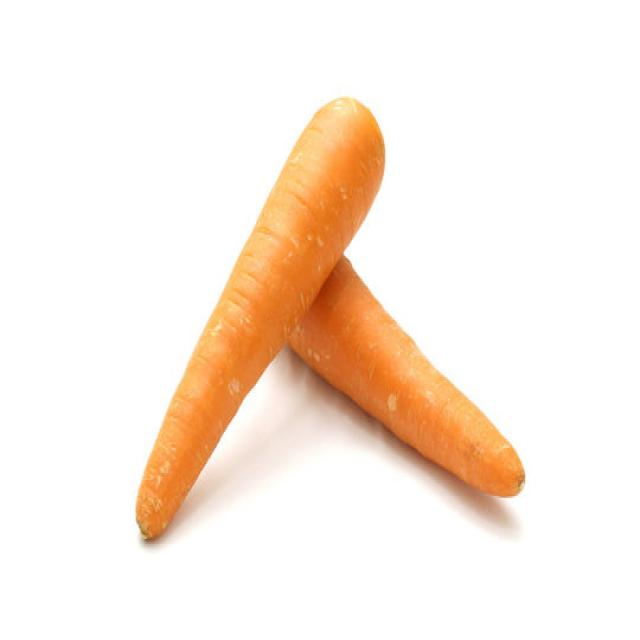Carrot: (134, 92, 385, 540), (286, 252, 525, 498)
